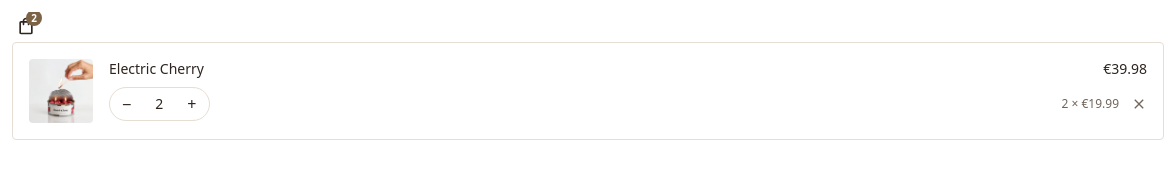
Test case: BasketEditor › keeps the header badge in step, so the two cannot disagree
Expected: the button named "cart, 2 items" is shown, [12,12,40,40]
Click the button named "increase quantity of electric cherry". click: coordinates (192, 104)
box: [175,88,208,120]
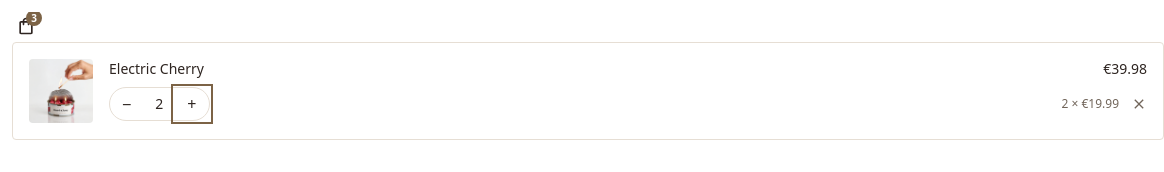
Expected: the button named "cart, 3 items" is shown, [12,12,40,40]
